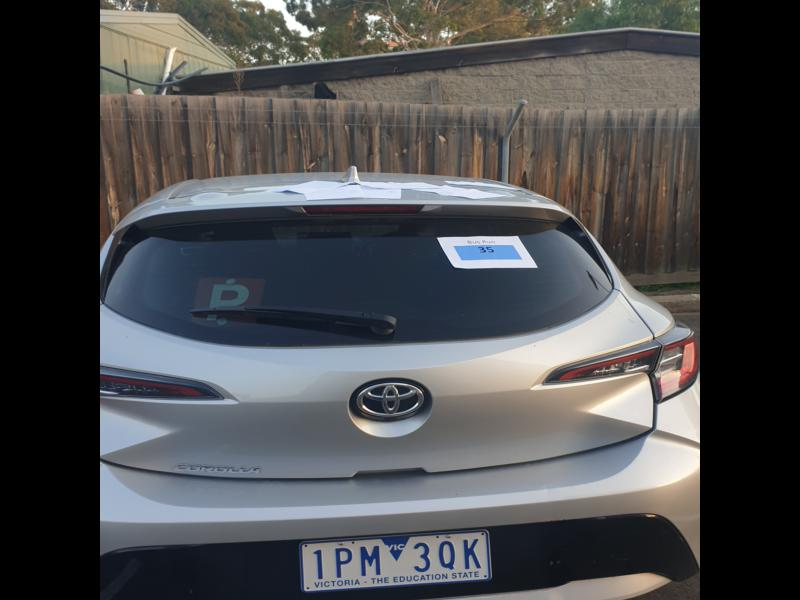BusRun: (455, 245, 523, 261)
PlateNo: (304, 526, 489, 597)
